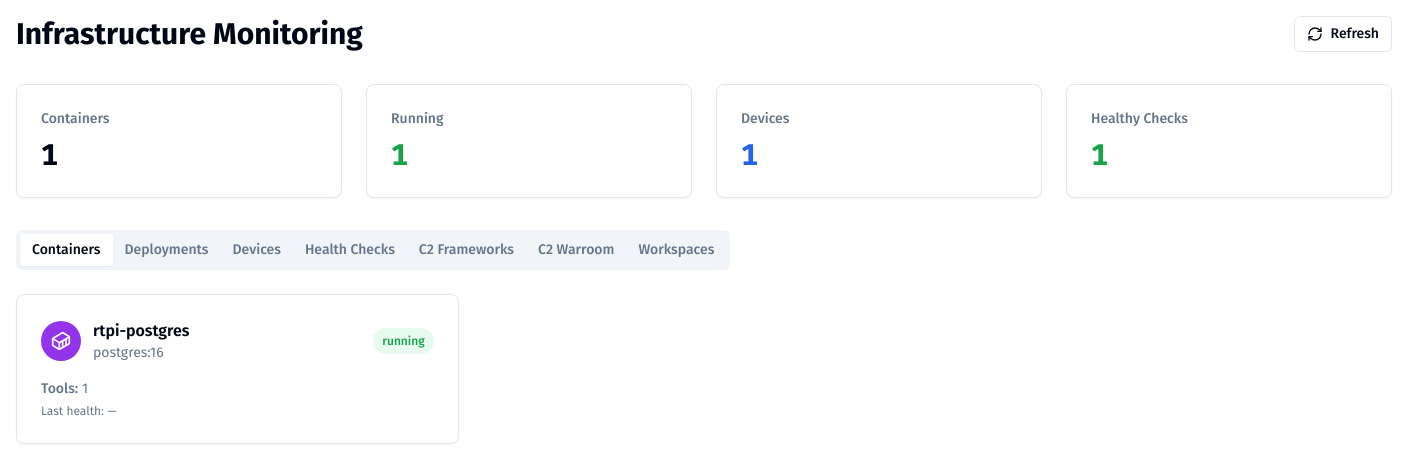
Infrastructure Page › tab switching › should switch to Devices tab when clicked
Step 1. Click the tab "Devices" → (257, 250), box [220, 234, 293, 266]
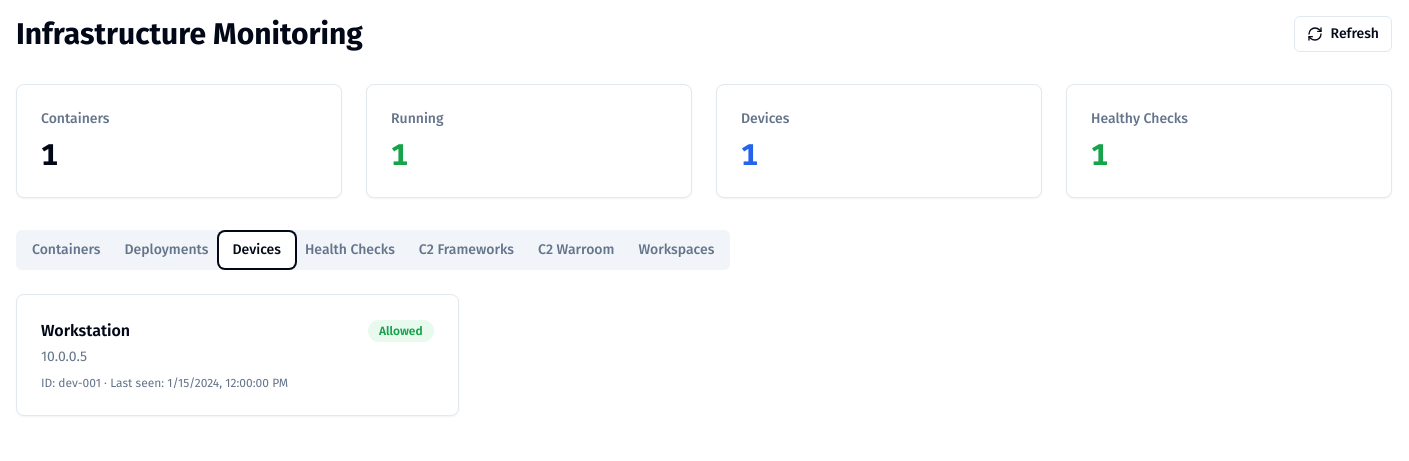
Expected: the heading "Workstation" is shown, [41, 319, 130, 343]
